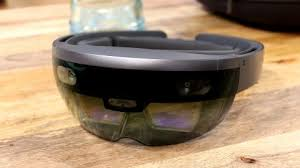hololens: (51, 30, 266, 149)
